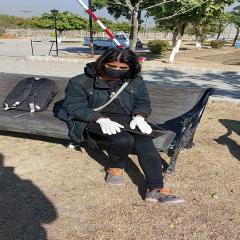gloved: (98, 118, 123, 134), (130, 117, 152, 134)
